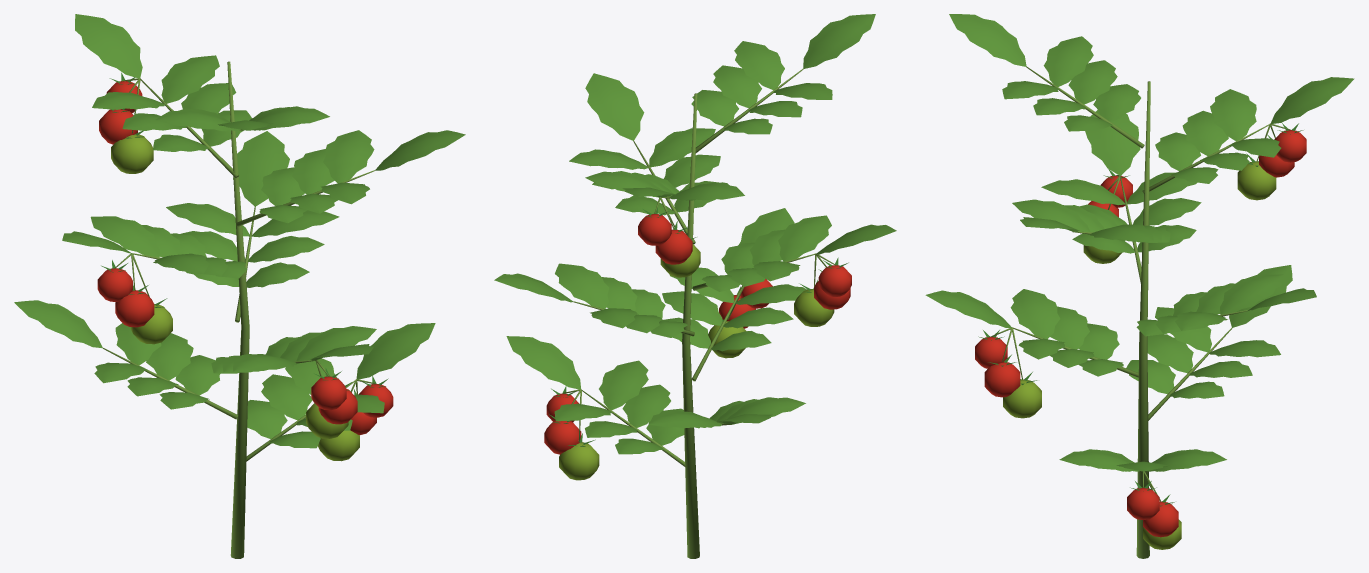
Rendered from tomato.glb.
3 renders of one model, left to right at view 1: azimuth 30°, elevation 25°; view 2: azimuth 150°, elevation 25°; view 3: azimuth 270°, elevation 25°, orthographic. The views are drawn at different scales.
Visible parts, largest first — view 1: Tomato_Compound_Serrated_Leaflets, Tomato_Branching_Herb_Stems, Tomato_Ripe_Red_Fruit, Tomato_Green_Fruit; view 2: Tomato_Compound_Serrated_Leaflets, Tomato_Branching_Herb_Stems, Tomato_Ripe_Red_Fruit, Tomato_Green_Fruit; view 3: Tomato_Compound_Serrated_Leaflets, Tomato_Ripe_Red_Fruit, Tomato_Branching_Herb_Stems, Tomato_Green_Fruit.
Boxes of the visible parts, x1,y1,x2,y2 form: Tomato_Compound_Serrated_Leaflets: [14, 14, 465, 448]; Tomato_Branching_Herb_Stems: [103, 61, 375, 558]; Tomato_Ripe_Red_Fruit: [97, 81, 393, 435]; Tomato_Green_Fruit: [111, 134, 359, 461]; Tomato_Compound_Serrated_Leaflets: [494, 14, 896, 454]; Tomato_Branching_Herb_Stems: [563, 69, 835, 558]; Tomato_Ripe_Red_Fruit: [544, 214, 851, 454]; Tomato_Green_Fruit: [559, 244, 834, 480]; Tomato_Compound_Serrated_Leaflets: [925, 14, 1354, 471]; Tomato_Ripe_Red_Fruit: [975, 130, 1306, 537]; Tomato_Branching_Herb_Stems: [991, 66, 1290, 558]; Tomato_Green_Fruit: [1003, 161, 1276, 549].
Bounding box in the file's own units: 1.18 × 1.5 × 1.17.
